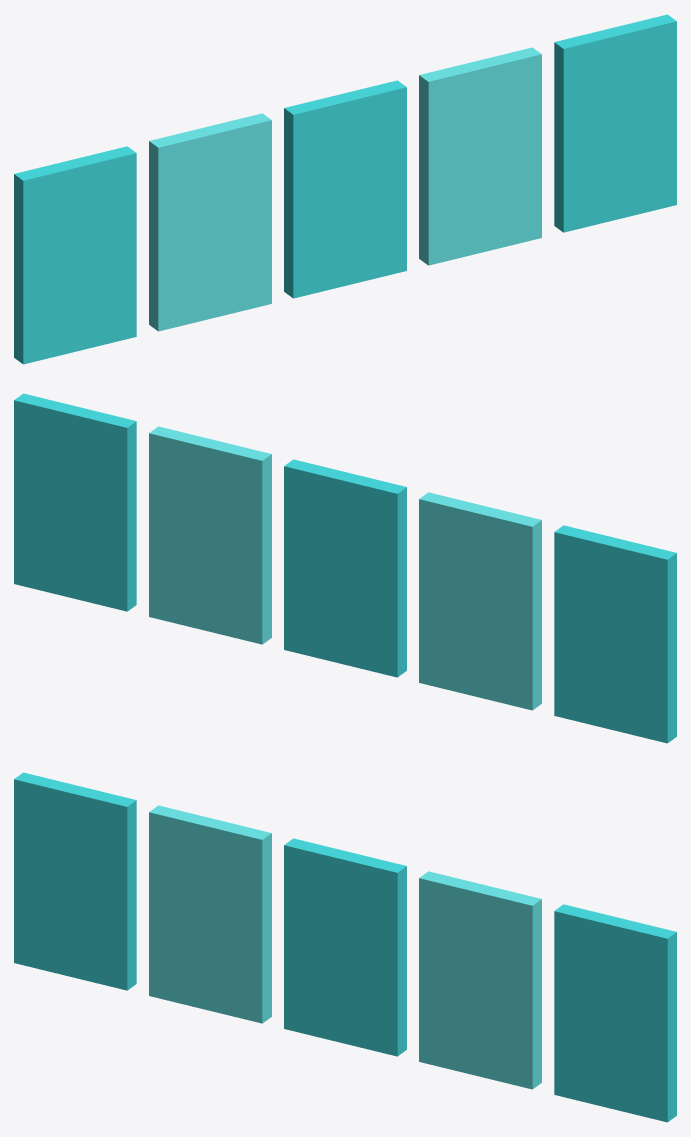
Rendered from walkway-pavers.glb.
3 views of the same model, one above another, from view 1: azimuth 30°, elevation 25°; view 2: azimuth 150°, elevation 25°; view 3: azimuth 330°, elevation 25° (orthographic).
Parts seen in each view (by area): view 1: world; view 2: world; view 3: world.
Boxes of the visible parts, bbox=[...] form: world: bbox=[14, 14, 676, 364]; world: bbox=[14, 393, 676, 743]; world: bbox=[14, 772, 676, 1122].
Bounding box in the file's own units: 2.42 × 0.65 × 0.06.
